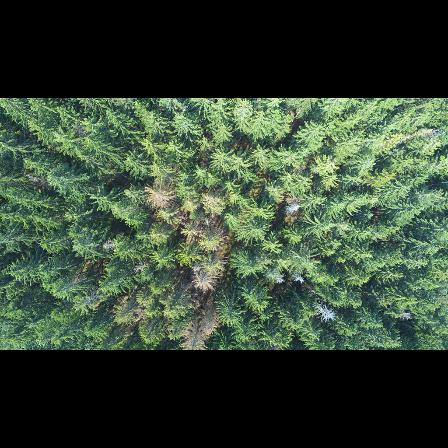Dead: (179, 305, 218, 349), (143, 179, 174, 207), (312, 297, 337, 327), (193, 271, 217, 291), (284, 199, 305, 219), (290, 270, 307, 285), (133, 261, 150, 274), (102, 237, 114, 253)
